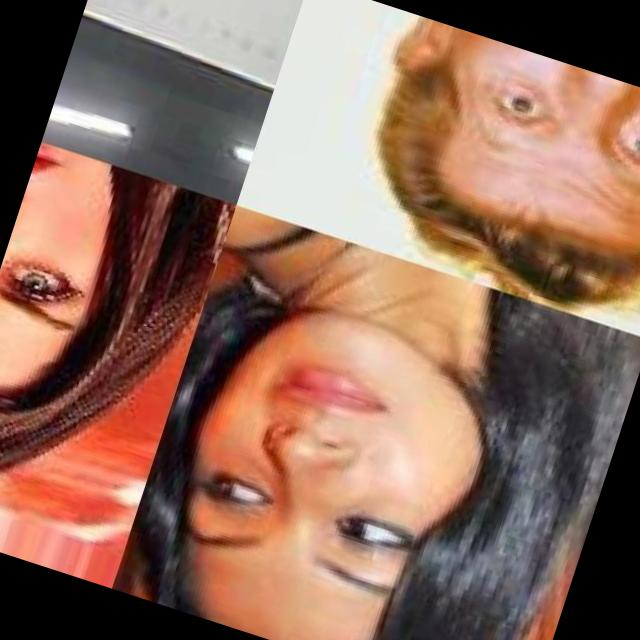bareface: (171, 299, 491, 640)
